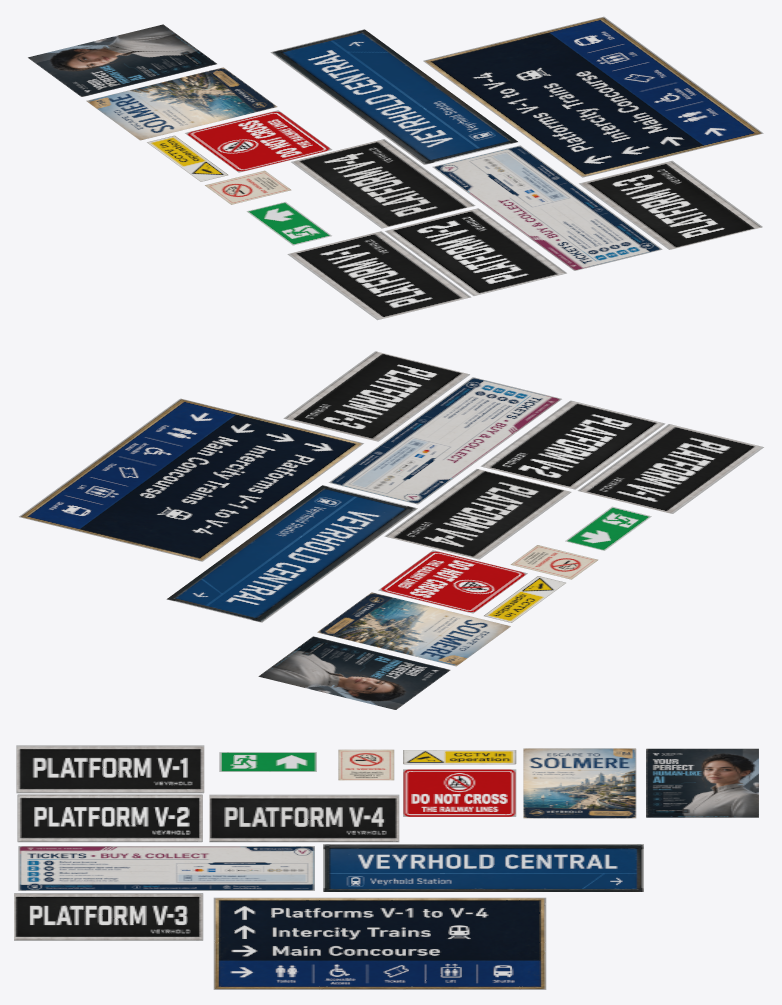
The model's file is decal ad.fbx.
The picture shows the model from 3 angles, top to bottom: view 1: azimuth 30°, elevation 25°; view 2: azimuth 150°, elevation 25°; view 3: azimuth 270°, elevation 25°; orthographic projection. The views are drawn at different scales.
Parts seen in each view (by area): view 1: guide, station, ticket_instruction, p4, p3, p1, p2, travel_ad, ai_ad, dont_cross, exit_green, smoking (+1 smaller); view 2: guide, station, ticket_instruction, p4, p3, p1, p2, travel_ad, ai_ad, dont_cross, exit_green, smoking (+1 smaller); view 3: guide, station, ticket_instruction, p4, p1, p3, p2, travel_ad, ai_ad, dont_cross, exit_green, smoking (+1 smaller).
Part boxes in pixels (left/top/right/bottom): guide: left=423, top=16, right=763, bottom=177; station: left=270, top=29, right=517, bottom=164; ticket_instruction: left=432, top=145, right=662, bottom=270; p4: left=291, top=139, right=475, bottom=228; p3: left=579, top=160, right=762, bottom=249; p1: left=287, top=231, right=471, bottom=320; p2: left=385, top=208, right=566, bottom=295; travel_ad: left=86, top=67, right=277, bottom=140; ai_ad: left=28, top=24, right=216, bottom=96; dont_cross: left=185, top=110, right=332, bottom=172; exit_green: left=246, top=202, right=331, bottom=245; smoking: left=205, top=170, right=291, bottom=204; guide: left=19, top=398, right=363, bottom=561; station: left=166, top=485, right=417, bottom=622; ticket_instruction: left=328, top=377, right=561, bottom=504; p4: left=384, top=469, right=571, bottom=559; p3: left=283, top=351, right=469, bottom=441; p1: left=577, top=424, right=763, bottom=513; p2: left=480, top=400, right=665, bottom=489; travel_ad: left=317, top=592, right=510, bottom=666; ai_ad: left=258, top=636, right=450, bottom=709; dont_cross: left=378, top=550, right=527, bottom=613; exit_green: left=565, top=506, right=651, bottom=550; smoking: left=510, top=545, right=598, bottom=579; guide: left=213, top=897, right=546, bottom=989; station: left=323, top=844, right=643, bottom=891; ticket_instruction: left=18, top=846, right=314, bottom=890; p4: left=209, top=794, right=399, bottom=842; p1: left=16, top=745, right=204, bottom=793; p3: left=14, top=893, right=203, bottom=940; p2: left=17, top=794, right=202, bottom=842; travel_ad: left=523, top=748, right=636, bottom=818; ai_ad: left=646, top=748, right=758, bottom=817; dont_cross: left=403, top=769, right=516, bottom=816; exit_green: left=219, top=752, right=316, bottom=771; smoking: left=338, top=749, right=394, bottom=780.
Bounding box in the file's own units: 1515 × 0 × 1956.
1 material, 1 textured.
